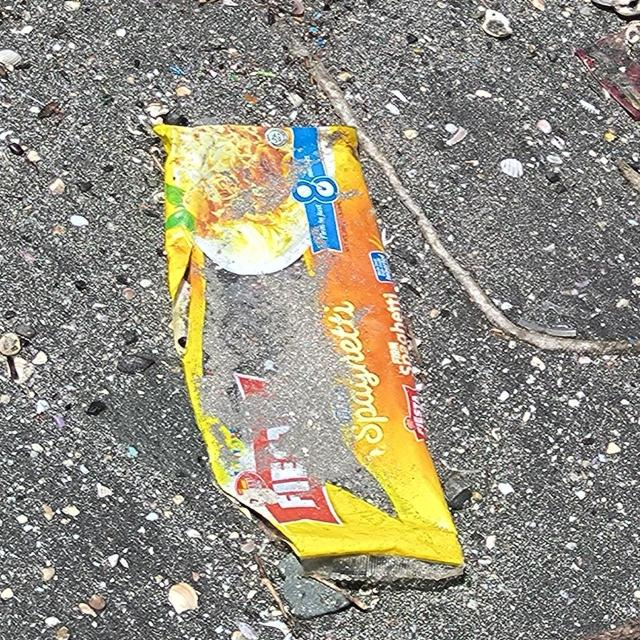litter: (156, 122, 465, 576)
